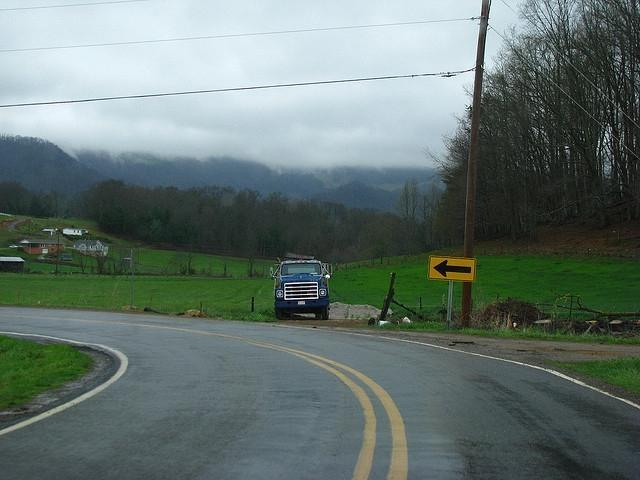car: (48, 253, 57, 258)
truck: (274, 263, 330, 319)
